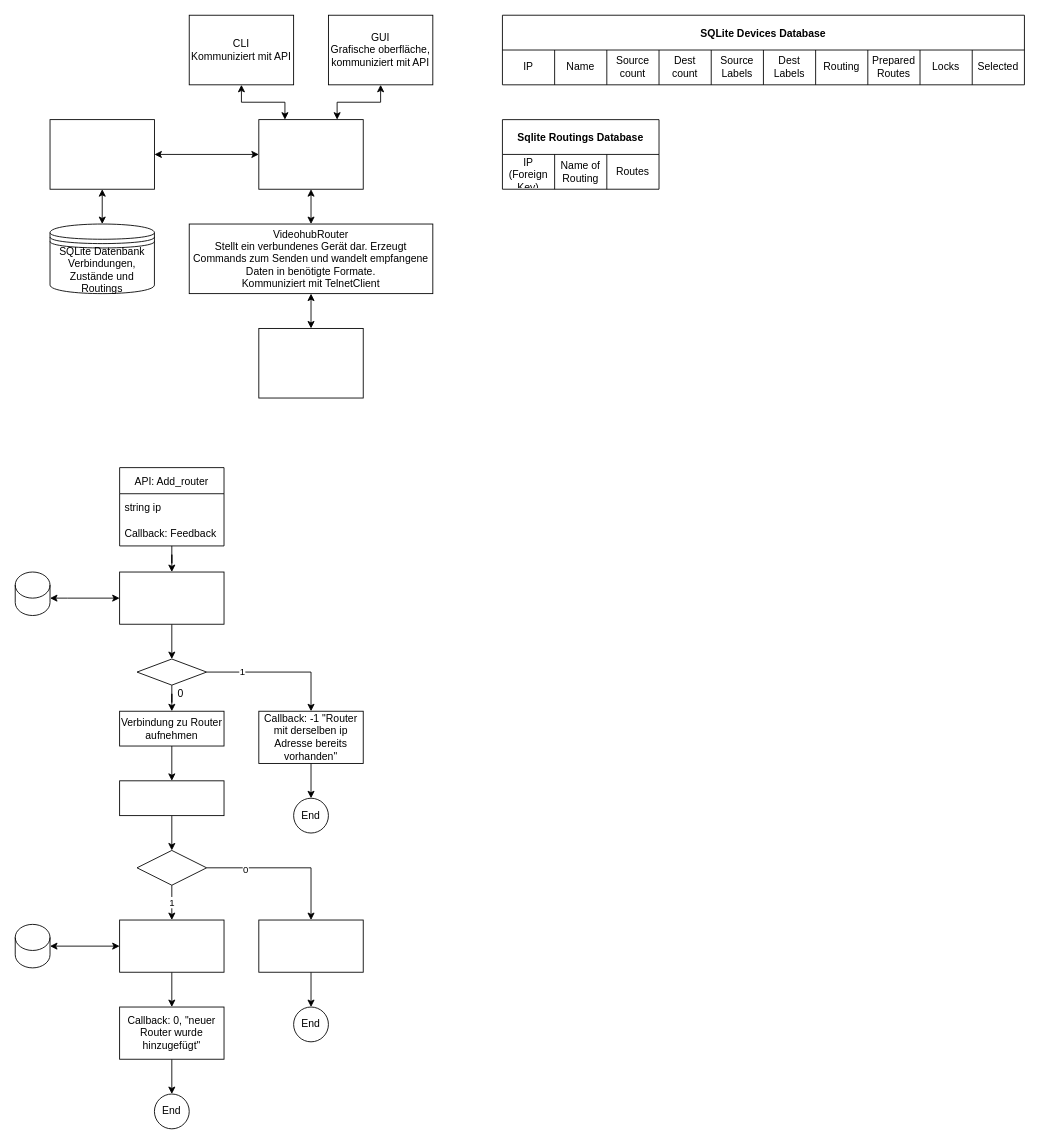
The diagram is 1040 pixels wide and 1144 high, and some of its shapes have lost their labels. The centre of each missing label's shape, as x and y in pixels:
Anfrage an SQLite interface, ob bereits vorhanden: point (171, 597)
API Kommuniziert mit verbundenen Geräten und SQLite Interface: point (310, 154)
Callback: -1, "Keine Komunikation zu Gerät möglich": point (310, 945)
Information des Routers an SQLite interface weiterleiten zum Speichern: point (171, 945)
SQLite interface kommuniziert mit Datenbank: point (101, 154)
Telnetclient stellt Netzwerkverbindung her, sendet und empfängt Daten: point (310, 363)
Verbindung erfolgreich?: point (171, 798)
